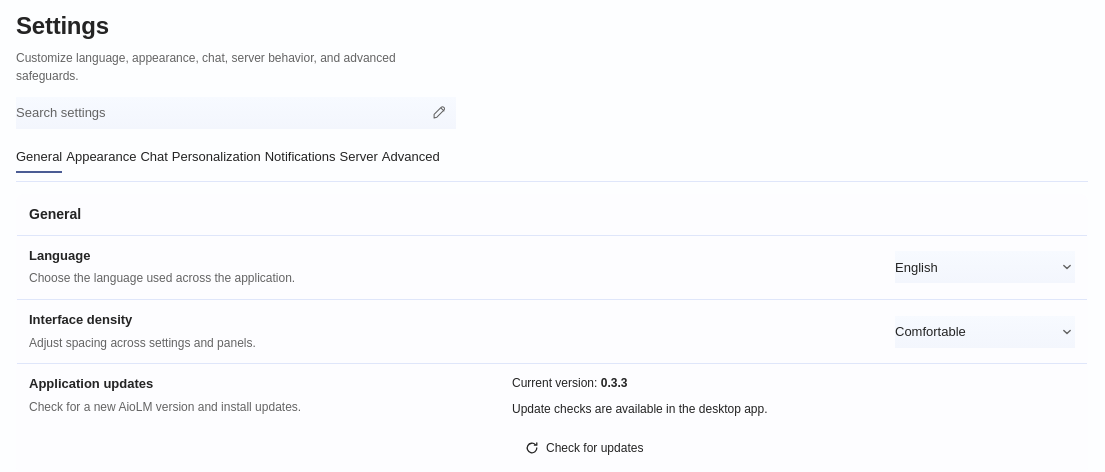
Test case: desktop settings › explains mandatory exit cleanup instead of offering a nonfunctional toggle
Click the tab "Server".
click(359, 157)  # box 340,141 -> 378,173
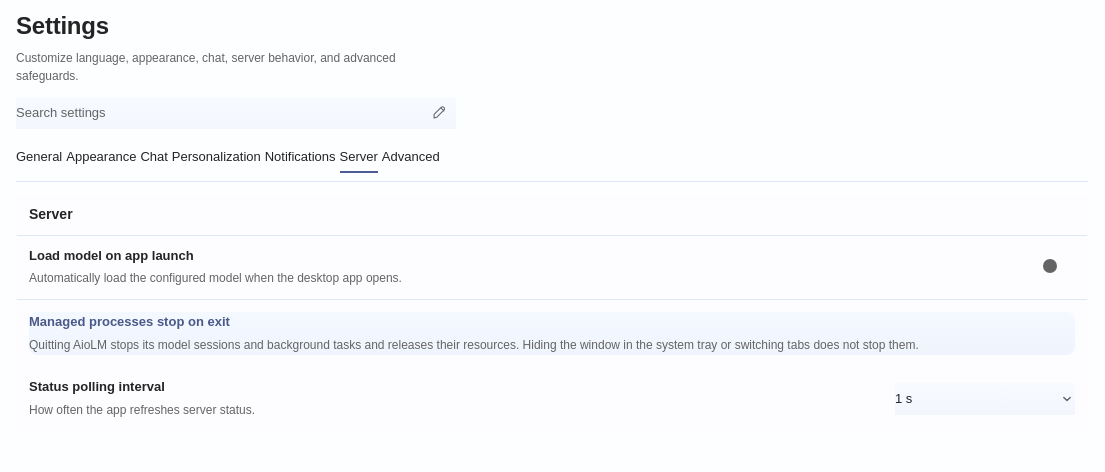
expect the text "Managed processes stop on exit" is shown: met, box 29,314 -> 230,329
expect the text "switching tabs does not stop them" is shown: met, box 29,338 -> 919,352
